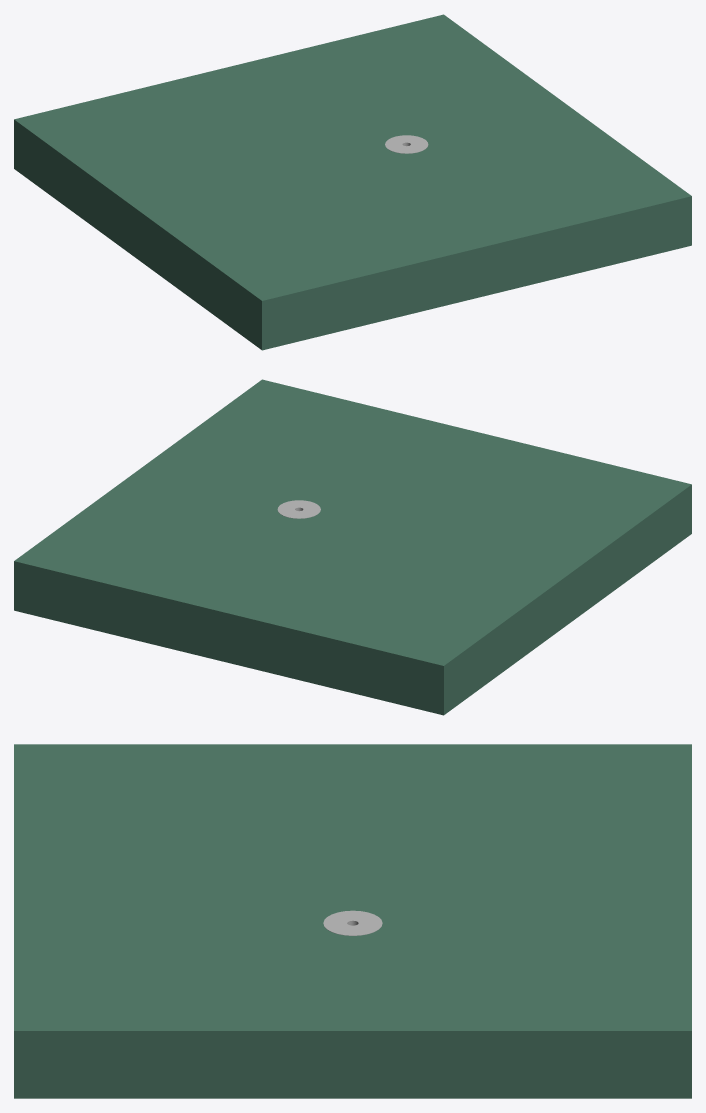
File: slab_A1_lin000.glb
3 renders of one model, top to bottom at view 1: azimuth 30°, elevation 25°; view 2: azimuth 150°, elevation 25°; view 3: azimuth 270°, elevation 25°, orthographic. The views are drawn at different scales.
Parts seen in each view (by area): view 1: =>[0:1:1:3], =>[0:1:1:2]; view 2: =>[0:1:1:3], =>[0:1:1:2]; view 3: =>[0:1:1:3], =>[0:1:1:2].
Boxes of the visible parts, box(x1,y1,x2,y2) form: =>[0:1:1:3]: box(14, 14, 691, 350); =>[0:1:1:2]: box(385, 135, 428, 153); =>[0:1:1:3]: box(14, 379, 691, 715); =>[0:1:1:2]: box(277, 500, 320, 518); =>[0:1:1:3]: box(14, 744, 691, 1098); =>[0:1:1:2]: box(323, 910, 382, 935).
Bounding box in the file's own units: 0.08 × 0.00888 × 0.08.
